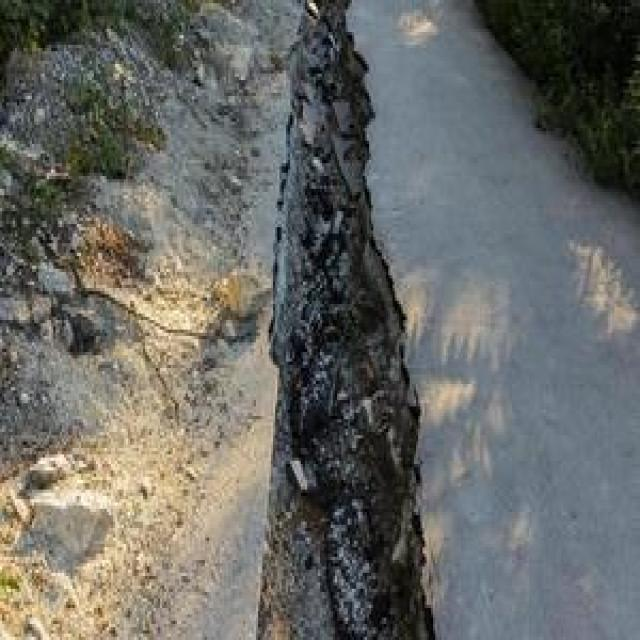road collapse: (117, 0, 640, 640)
